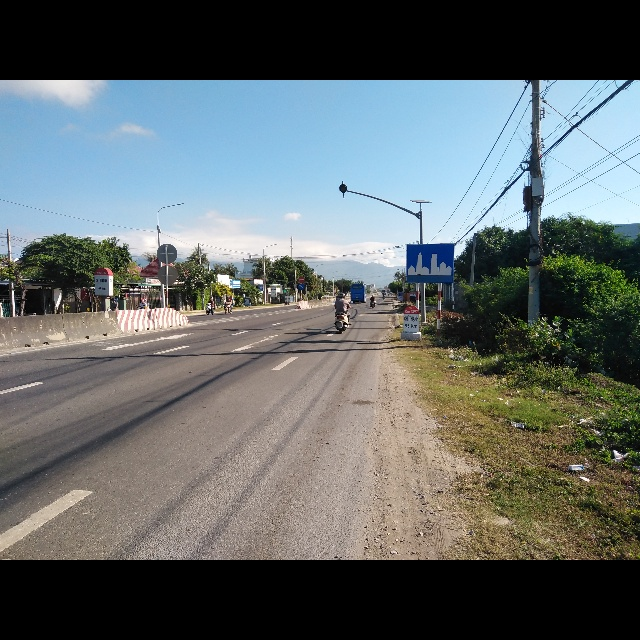Khu đông dân cư: (406, 243, 454, 282)
